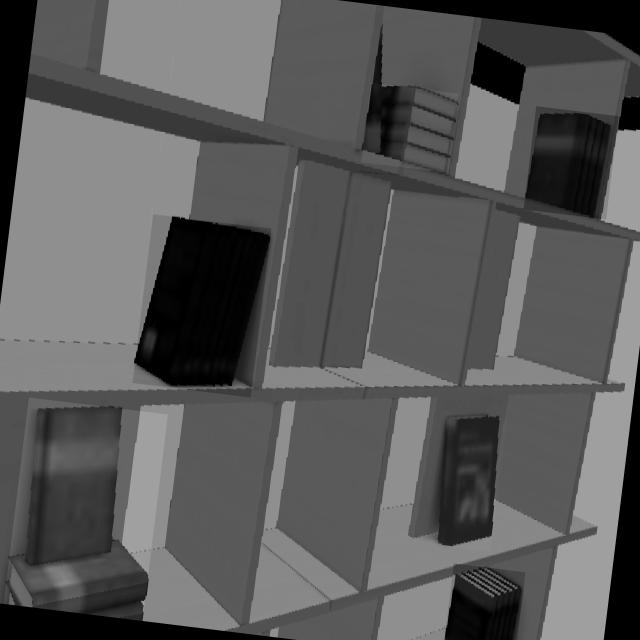book: (5, 407, 148, 621), (134, 216, 270, 387), (525, 111, 617, 217), (438, 415, 501, 546), (362, 86, 456, 172), (444, 567, 523, 640)
